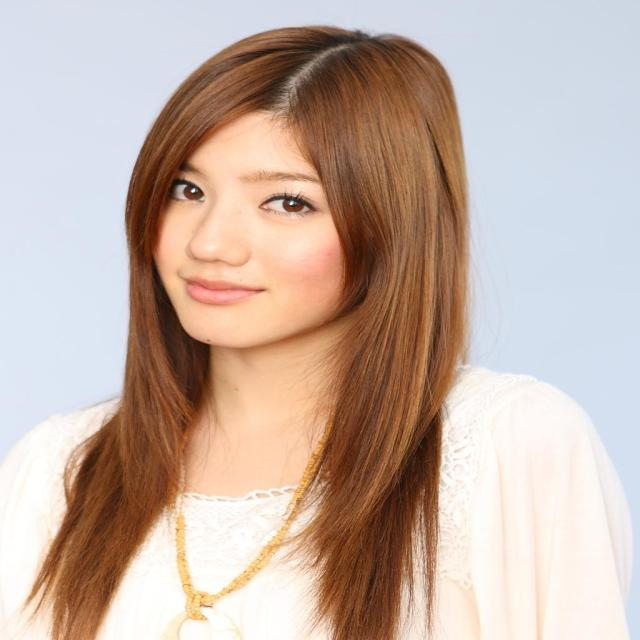Face: (127, 129, 391, 353)
